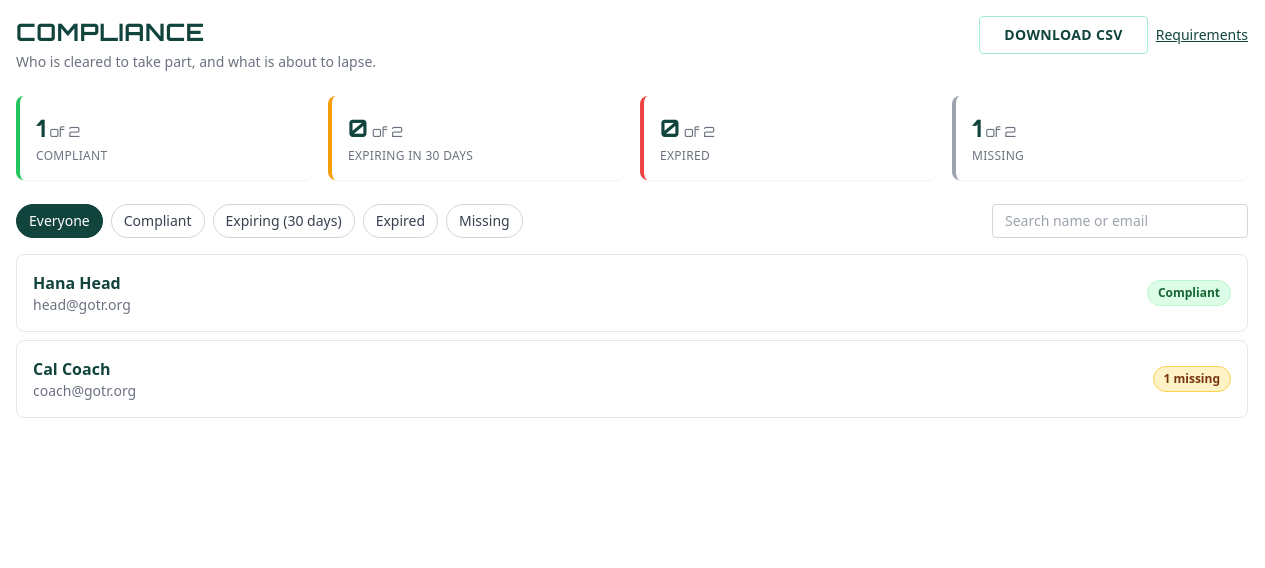
Scenario: ClubCompliance › the drawer shows every requirement with its status and the admin actions
The image size is (1265, 568).
Click the text "Cal Coach".
click(72, 369)  # box [33,358,110,380]
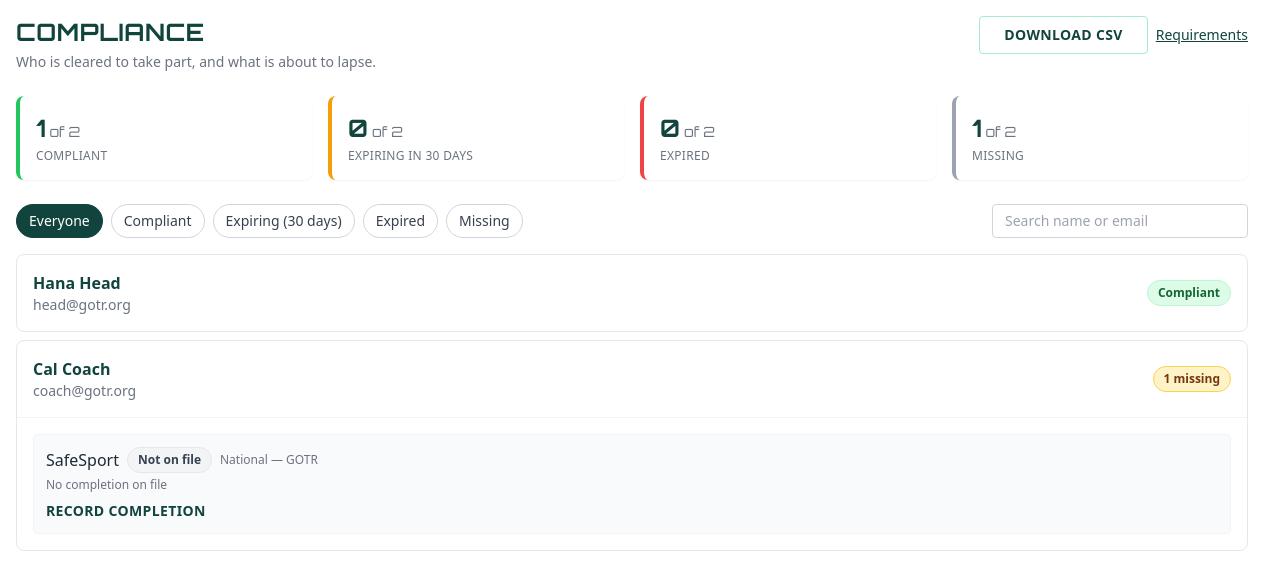
Now the text "SafeSport" is shown, box [46,448,119,472]
Now the text "Not on file" is shown, box [127,447,212,473]
Now the button "Record completion" is shown, box [46,501,206,521]
